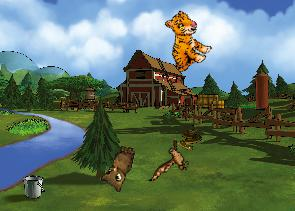eagle: (148, 135, 194, 189)
owl: (98, 141, 135, 193)
tiger: (149, 7, 218, 77)
